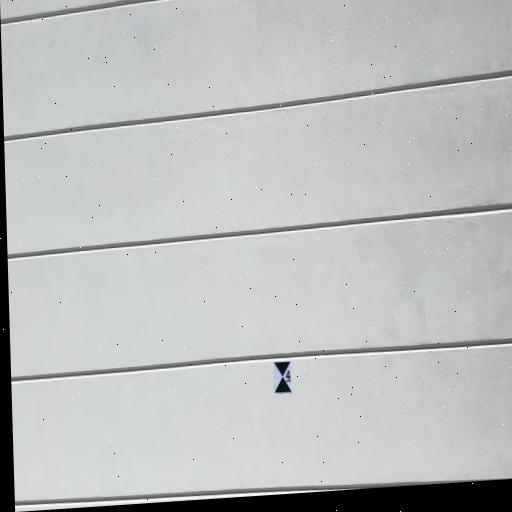target4: (273, 361, 292, 393)
